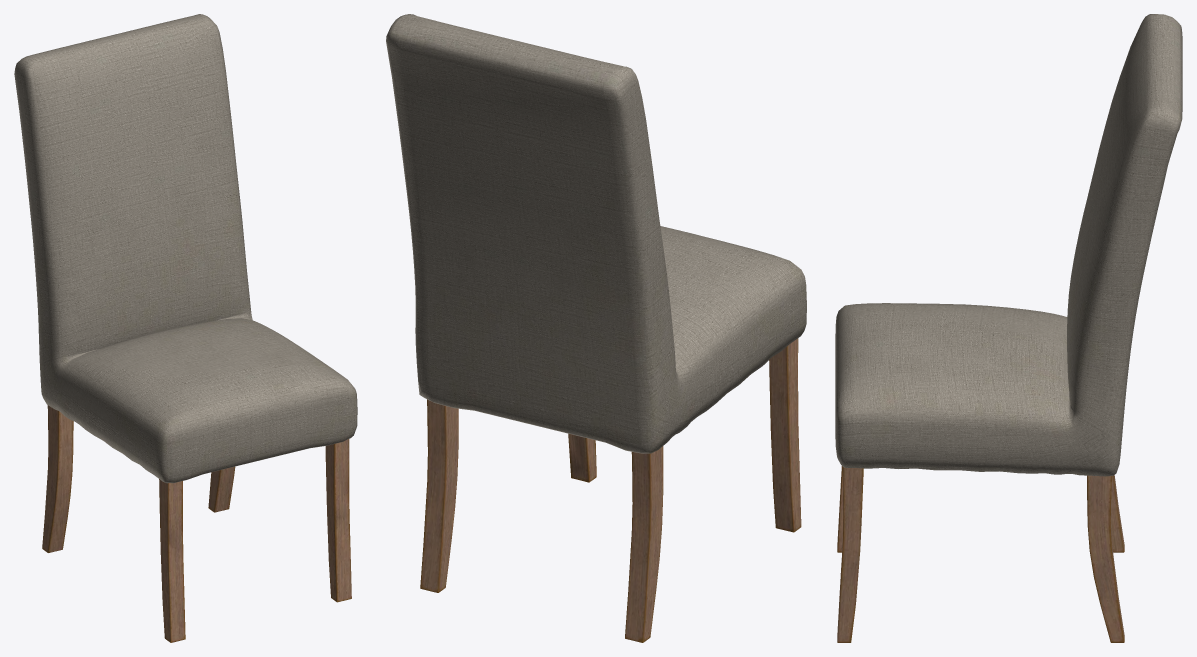
File: dining_chair_abo_B07HSJX7YW.glb
The picture shows the model from 3 angles, left to right: view 1: azimuth 30°, elevation 25°; view 2: azimuth 150°, elevation 25°; view 3: azimuth 270°, elevation 25°; orthographic projection. The views are drawn at different scales.
Parts seen in each view (by area): view 1: RootNode; view 2: RootNode; view 3: RootNode.
Part boxes in pixels (left/top/right/bottom): RootNode: left=14, top=14, right=357, bottom=642; RootNode: left=386, top=14, right=806, bottom=642; RootNode: left=835, top=14, right=1182, bottom=642.
Bounding box in the file's own units: 0.4496 × 1.03 × 0.611.
Materials: 1 (1 with a texture image).
